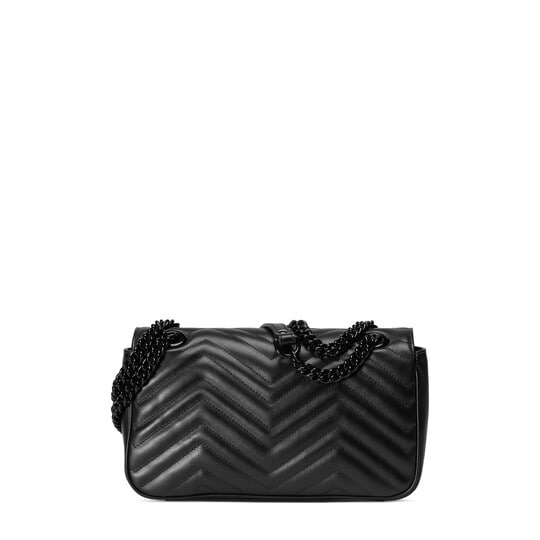Gucci: (95, 300, 458, 537), (177, 386, 408, 483)
